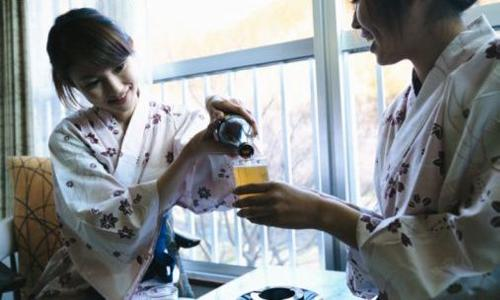person: (39, 7, 264, 300)
